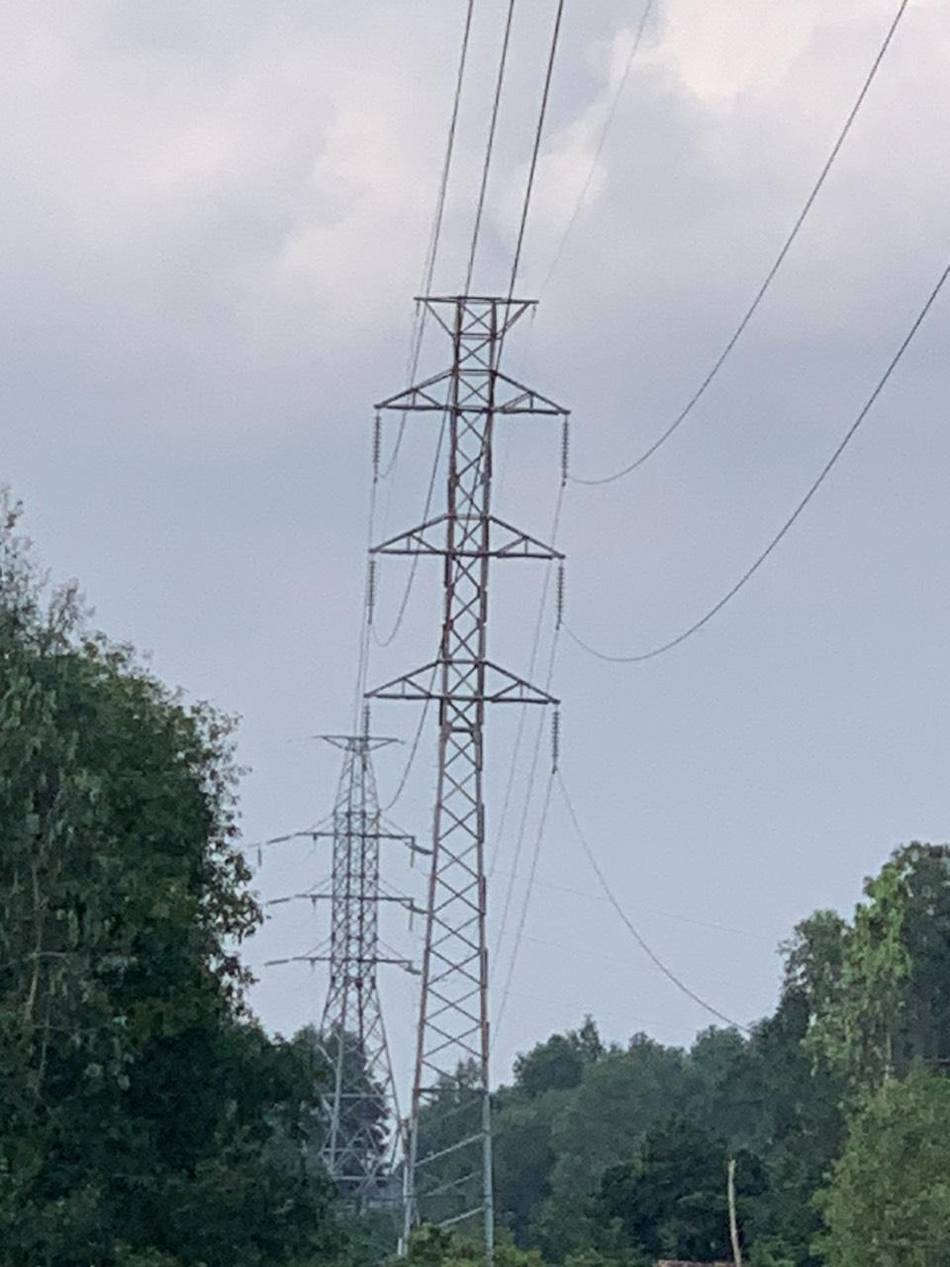tower: (351, 260, 577, 1267)
